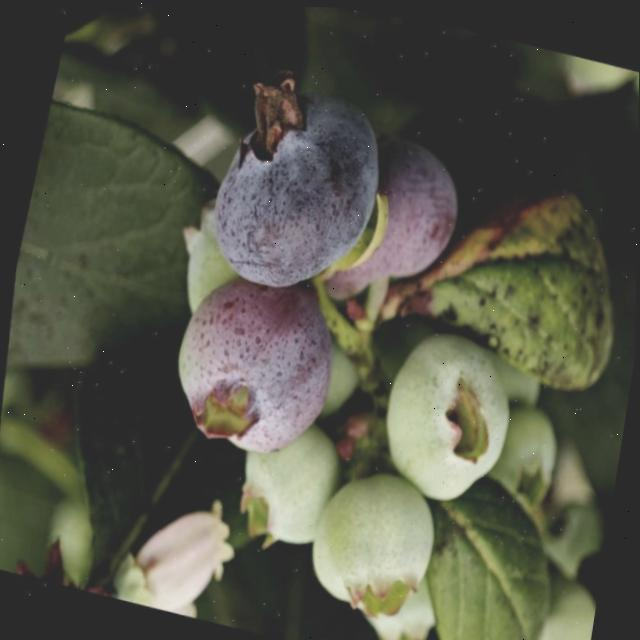Semi-RipeBlueBerry: (189, 72, 402, 313), (151, 260, 351, 469)
UnripeBlueBerry: (362, 321, 531, 518), (292, 453, 453, 634)
